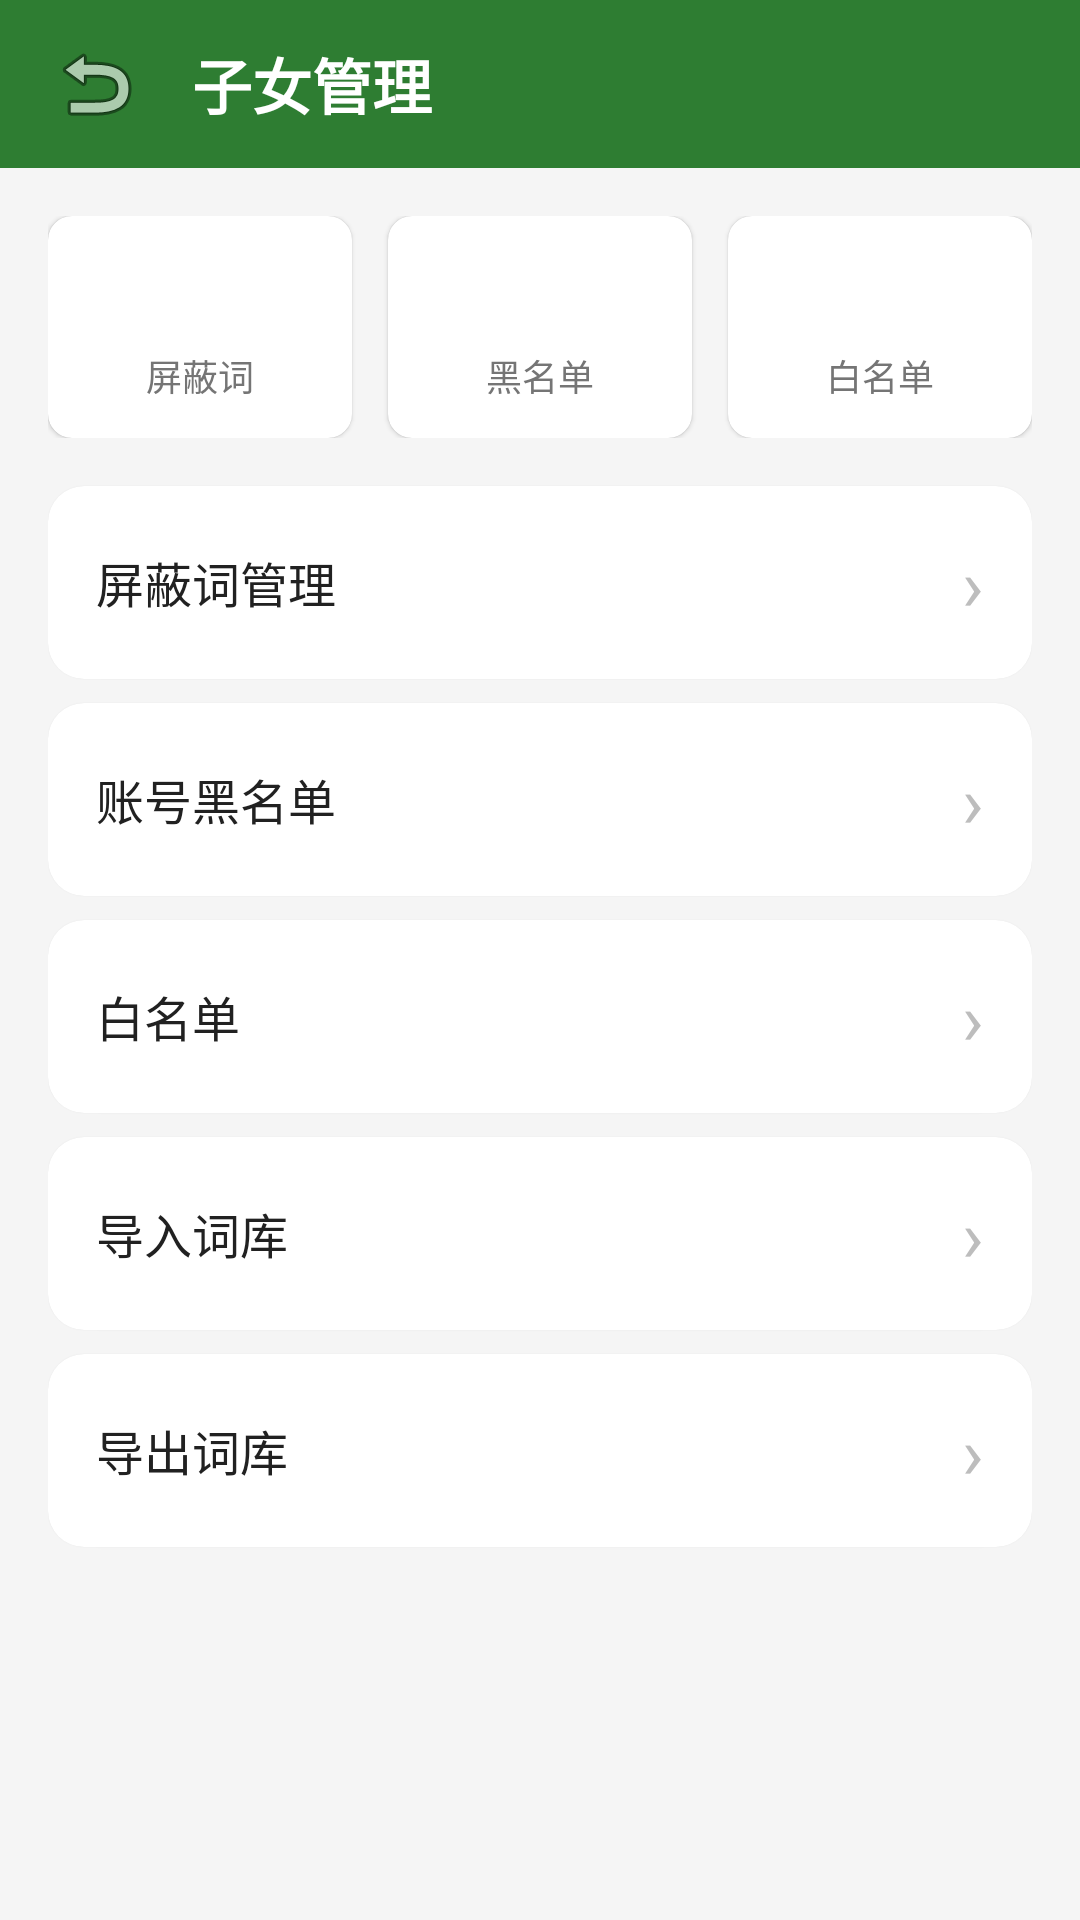

Icons on this 1080w x 1920h Android screen, each with the point to tap as (x,y):
返回: (97,85)
